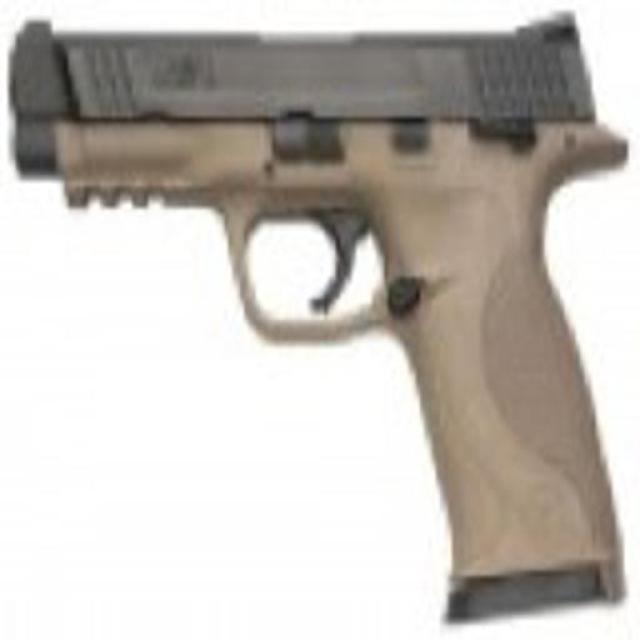pistol: (15, 21, 627, 607)
